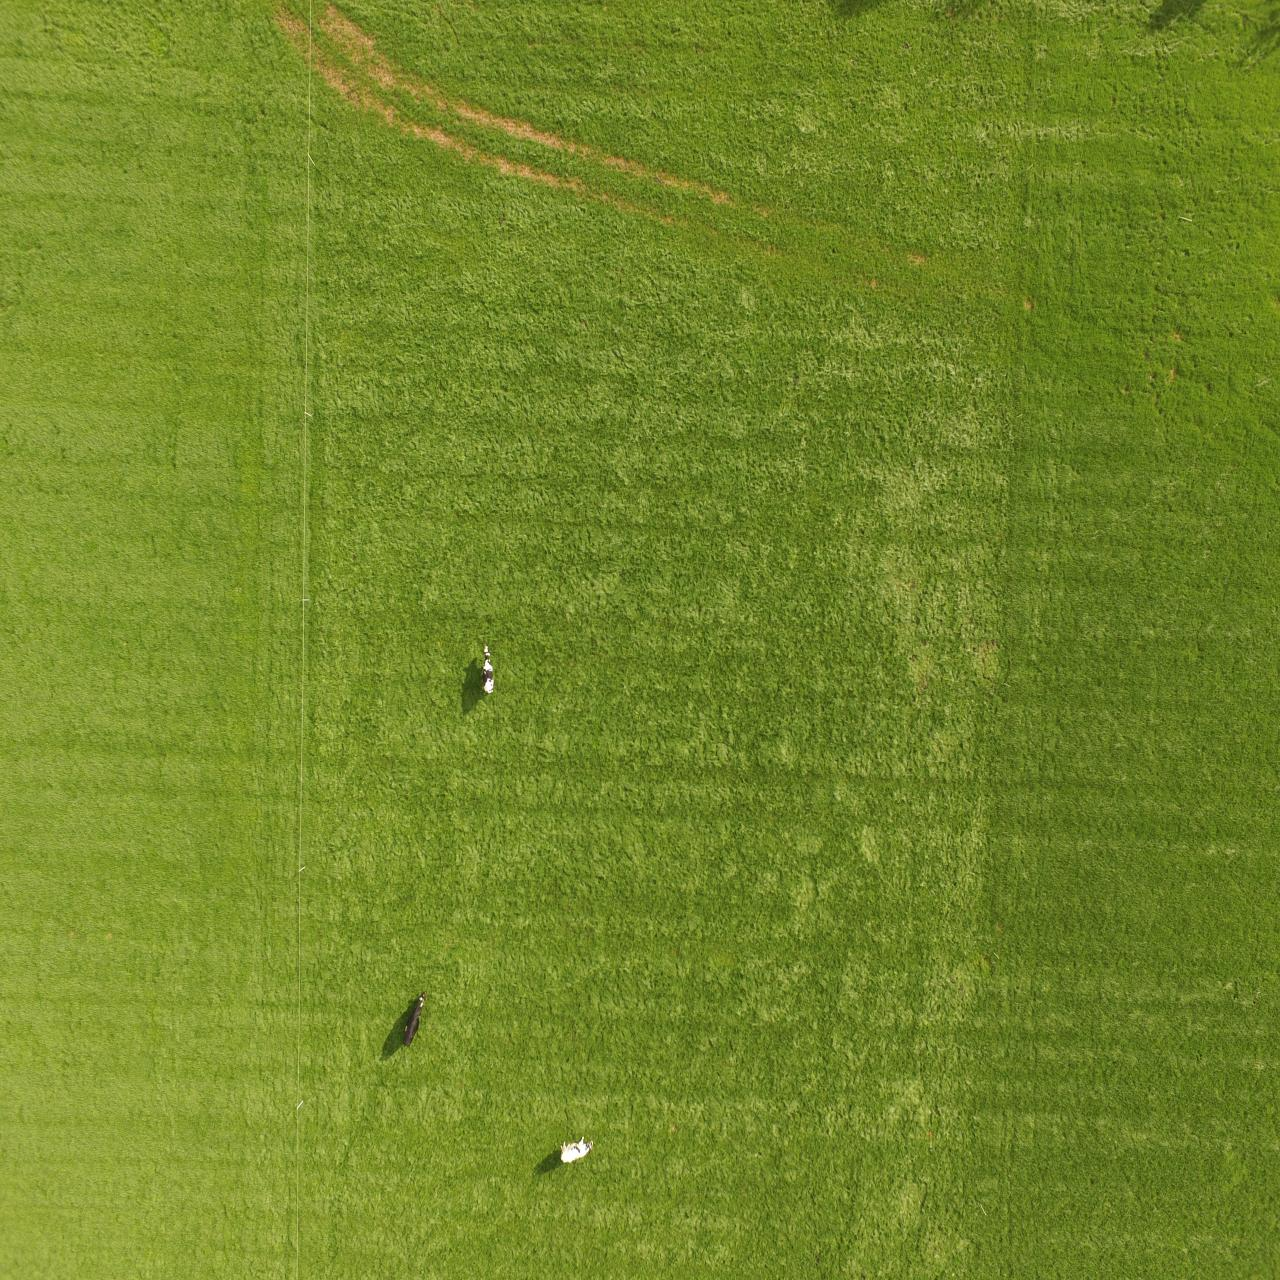cow: (402, 987, 428, 1048), (558, 1130, 597, 1165), (478, 638, 496, 697)
